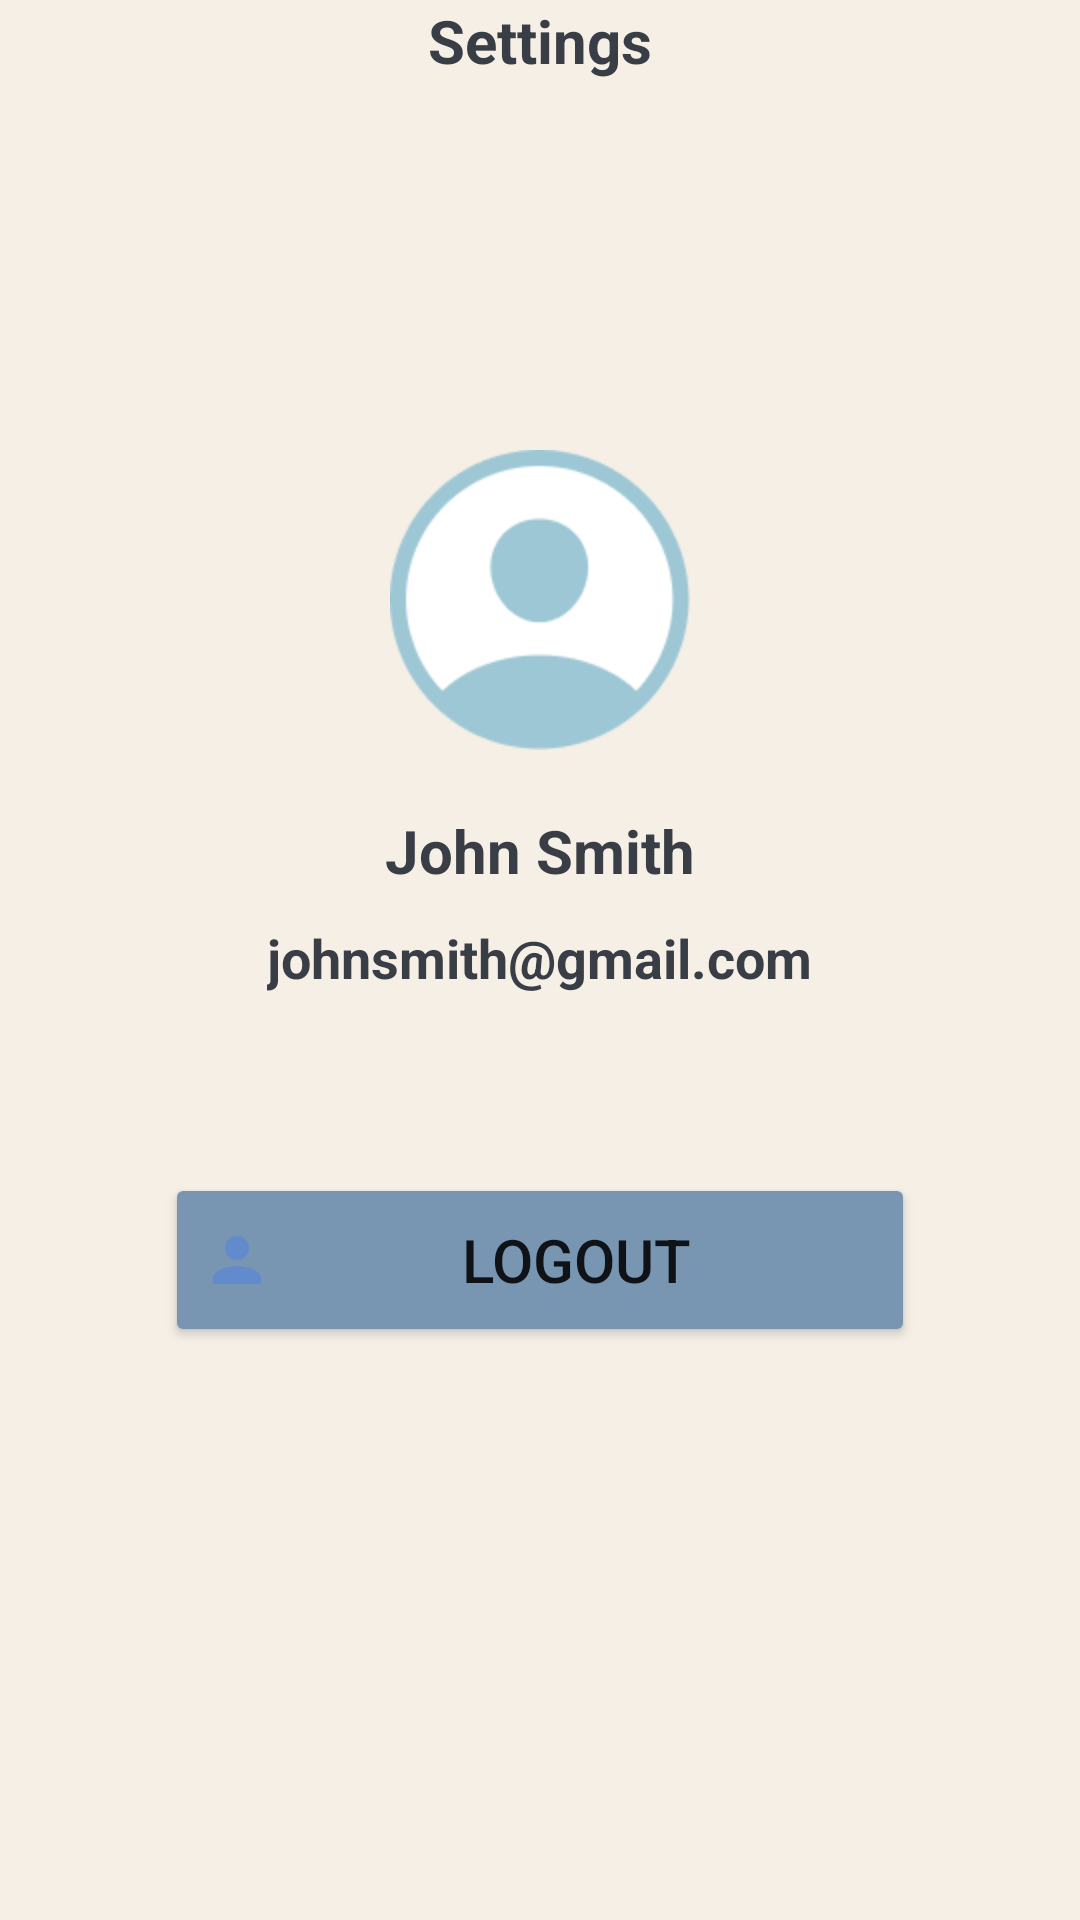

Named icons in this screenshot (1080*1920) and their bounding boxes, bbox=[x1, y1, x2, y2]:
personcircle: bbox=[390, 450, 690, 750]
